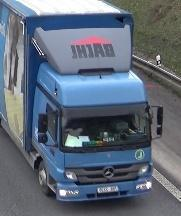truck: (1, 0, 165, 204)
